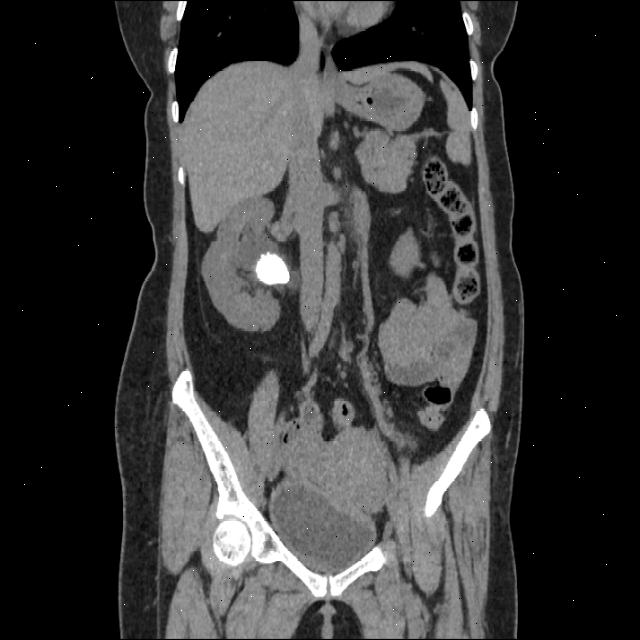kidneystone: (256, 252, 290, 284)
